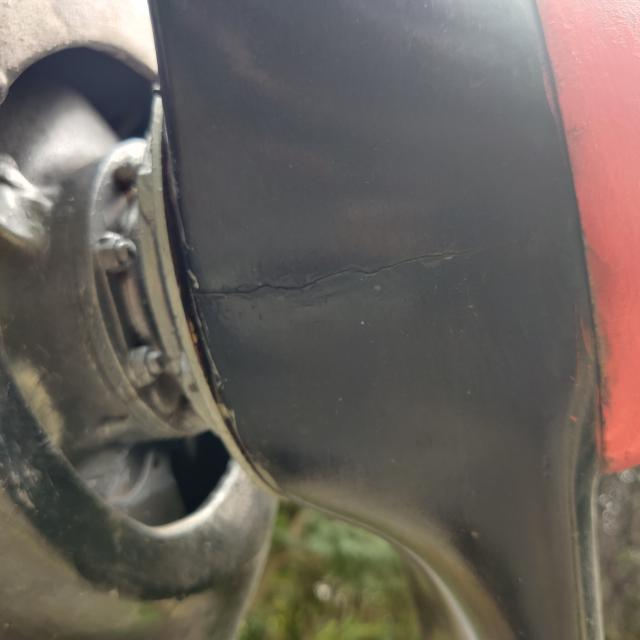Crack: (188, 260, 383, 310)
